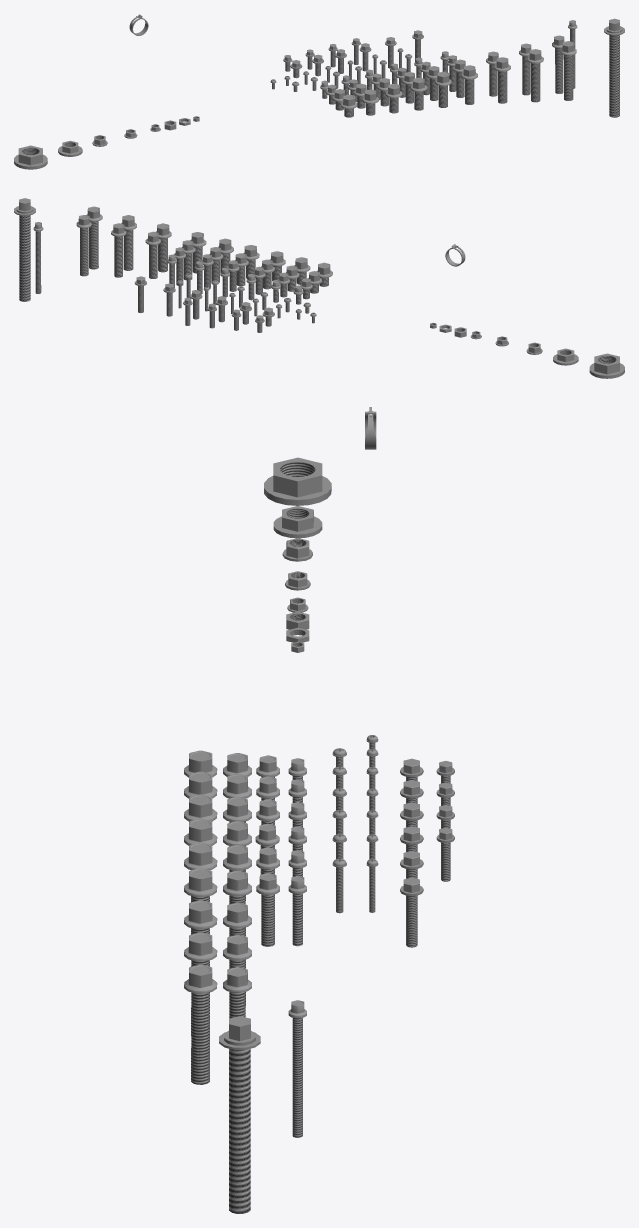
Rendered from LS_ALL_01.FBX.
3 views of the same model, one above another, from view 1: azimuth 30°, elevation 25°; view 2: azimuth 150°, elevation 25°; view 3: azimuth 270°, elevation 25° (orthographic). The views are drawn at different scales.
Parts seen in each view (by area): view 1: LJLS_17_12CM, LM_32_1.6CM, LJLS_18_7CM_A, LJLS_18_6CM_A, LJLS_16_7CM_A, LJLS_18_5CM_A, LJLS_16_6CM_A, LJLS_18_4CM_A, LJLS_18_3.5CM_A, LJLS_16_5CM_A, LJLS_18_3CM_A, LJLS_16_4CM_A (+9 smaller); view 2: LJLS_17_12CM, LM_32_1.6CM, LJLS_18_7CM_A, LJLS_18_6CM_A, LJLS_16_7CM_A, LJLS_16_6CM_A, LJLS_18_5CM_A, LJLS_16_5CM_A, LJLS_10_9CM_A, LJLS_18_4CM_A, LJLS_16_4CM_A, LM_21_1CM (+10 smaller); view 3: LJLS_17_12CM, LM_32_1.6CM, LJLS_18_7CM_A, LJLS_10_9CM_A, LM_21_1CM, LJLS_13_4CM_A.
Boxes of the visible parts, x1,y1,x2,y2 form: LJLS_17_12CM: [604, 18, 624, 117]; LM_32_1.6CM: [14, 145, 47, 169]; LJLS_18_7CM_A: [560, 41, 576, 100]; LJLS_18_6CM_A: [527, 49, 543, 102]; LJLS_16_7CM_A: [552, 35, 564, 93]; LJLS_18_5CM_A: [494, 57, 510, 103]; LJLS_16_6CM_A: [519, 43, 531, 95]; LJLS_18_4CM_A: [461, 65, 477, 104]; LJLS_18_3.5CM_A: [435, 71, 451, 107]; LJLS_16_5CM_A: [486, 51, 498, 96]; LJLS_18_3CM_A: [410, 77, 427, 110]; LJLS_16_4CM_A: [453, 59, 465, 97]; LJLS_17_12CM: [14, 198, 35, 301]; LM_32_1.6CM: [589, 353, 624, 378]; LJLS_18_7CM_A: [86, 206, 102, 269]; LJLS_18_6CM_A: [121, 215, 136, 270]; LJLS_16_7CM_A: [76, 215, 91, 276]; LJLS_16_6CM_A: [111, 223, 126, 277]; LJLS_18_5CM_A: [156, 223, 171, 272]; LJLS_16_5CM_A: [145, 231, 160, 278]; LJLS_10_9CM_A: [33, 222, 43, 293]; LJLS_18_4CM_A: [190, 232, 206, 273]; LJLS_16_4CM_A: [181, 240, 195, 280]; LM_21_1CM: [553, 348, 578, 365]; LJLS_17_12CM: [219, 1016, 260, 1213]; LM_32_1.6CM: [264, 457, 331, 505]; LJLS_18_7CM_A: [184, 964, 217, 1084]; LJLS_10_9CM_A: [288, 1000, 306, 1137]; LM_21_1CM: [273, 506, 322, 538]; LJLS_13_4CM_A: [256, 873, 279, 946].
Size of the model in its own units: 92.18 by 18.23 by 27.32.
